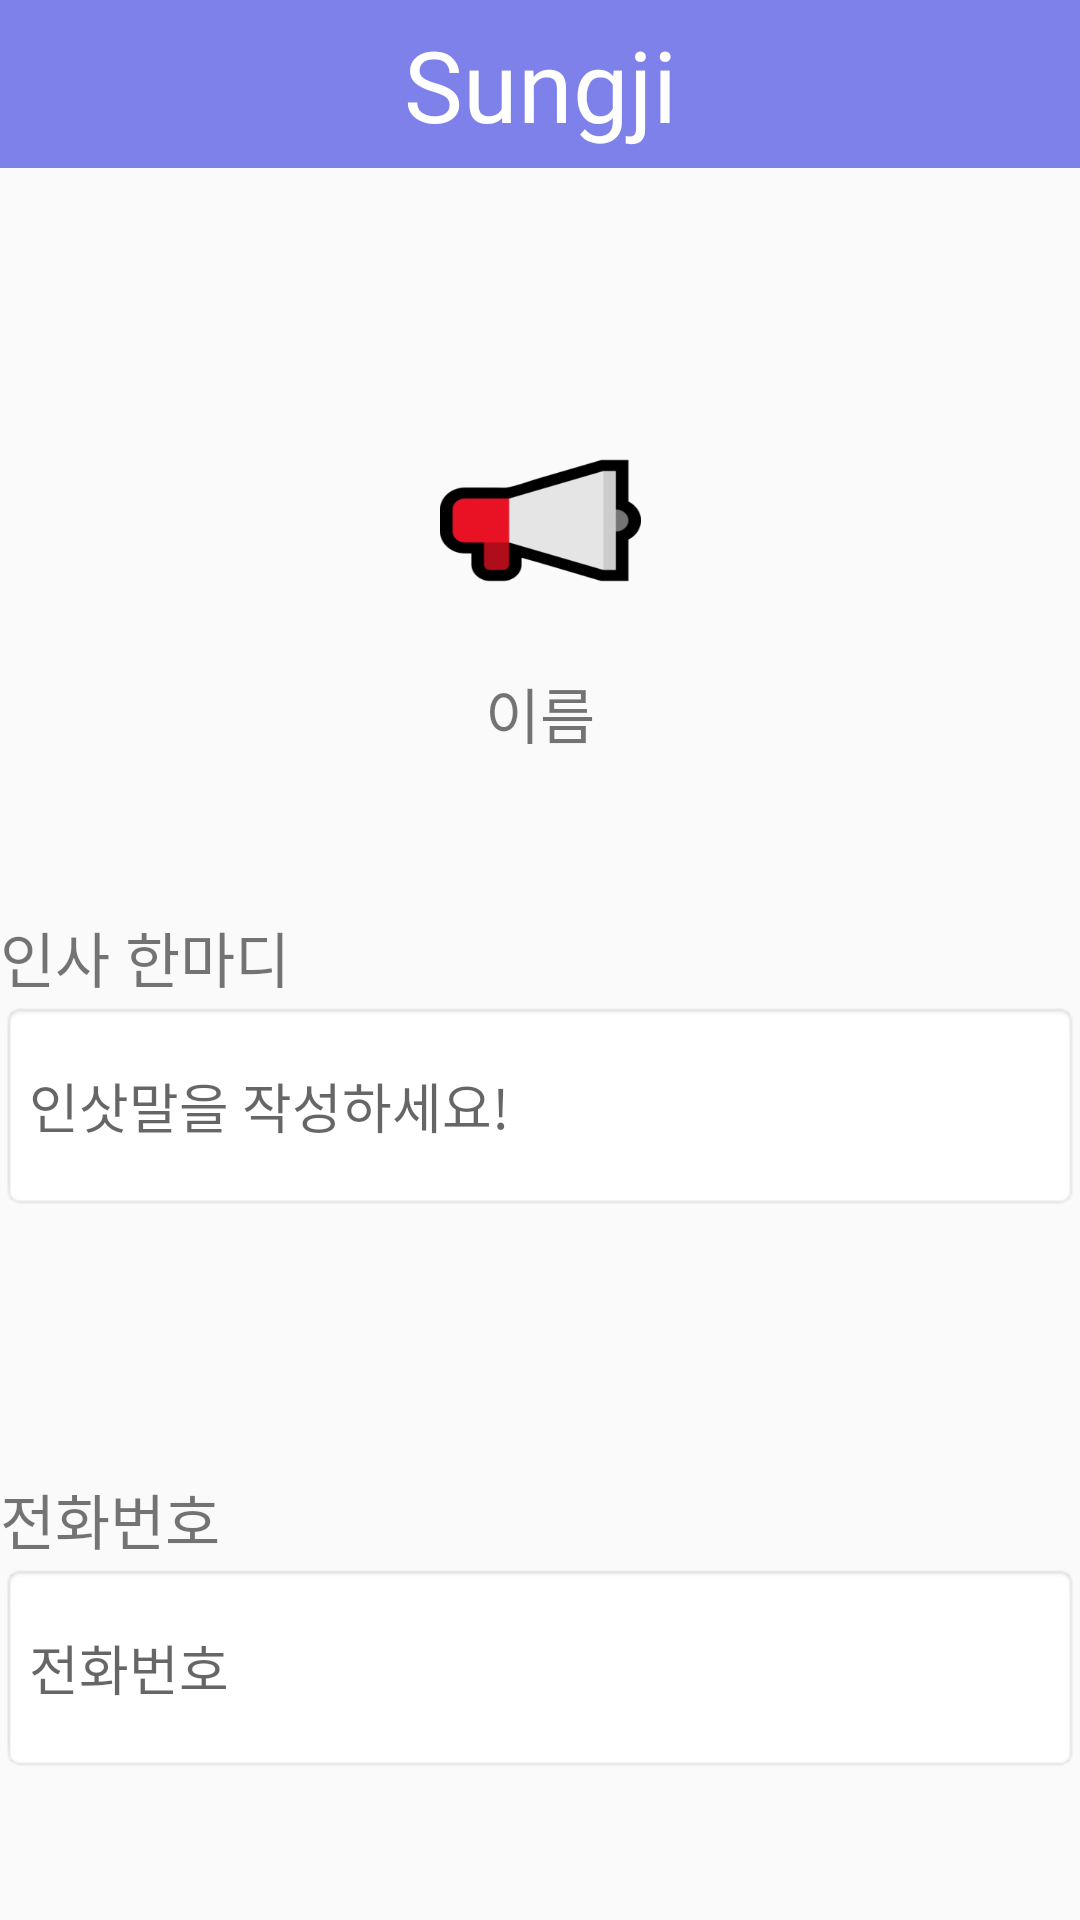

Icon bounding boxes for this 1080 × 1920 phone screenshot, format (x1, y1, x2, y2):
notice: (440, 459, 641, 582)
